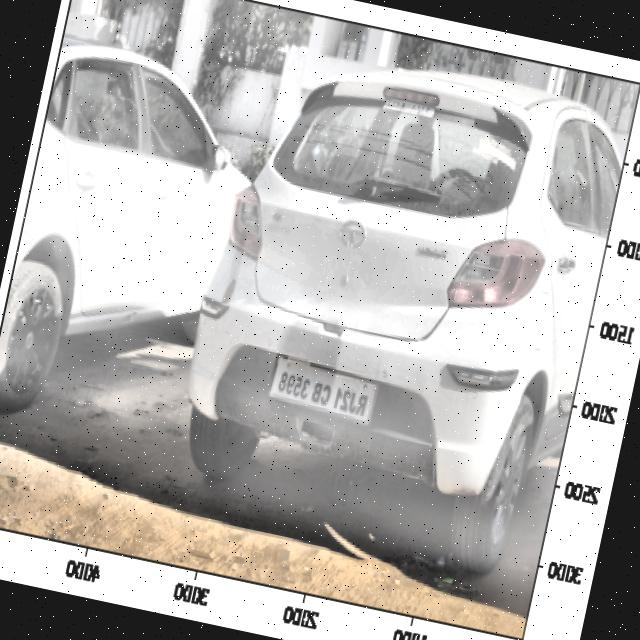license_plate: (268, 364, 374, 424)
